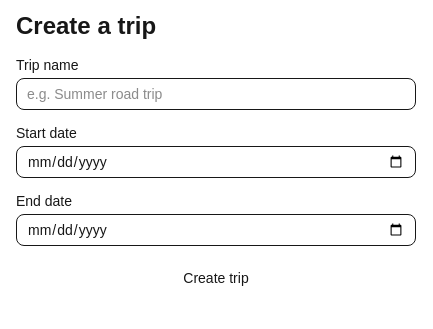
CreateTripPageView — form validation: dates required › shows end date required error when submitted without an end date
This screenshot has width=433, height=329.
Step 1. Type "My Trip" into the field labelled "Trip name" → (216, 94), box [16,78,416,110]
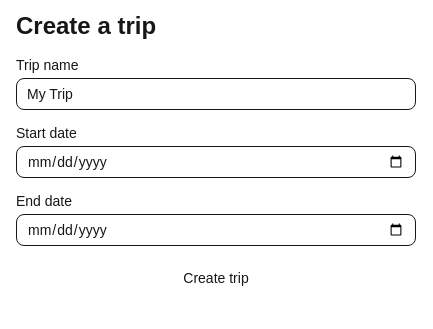
Step 2. Type "2025-06-01" into the date field labelled "Start date" → (216, 162), box [16,146,416,178]
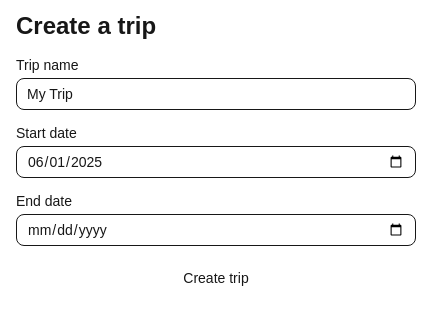
Step 3. Click the button "Create trip" → (216, 278), box [16,262,416,294]
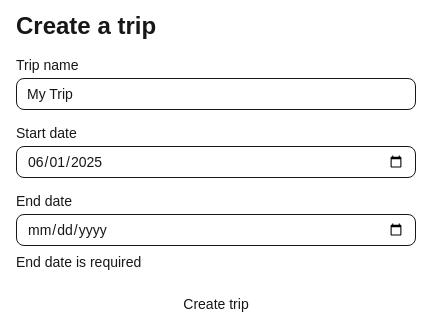
Expected: the text "End date is required" is shown, [16,254,141,270]
